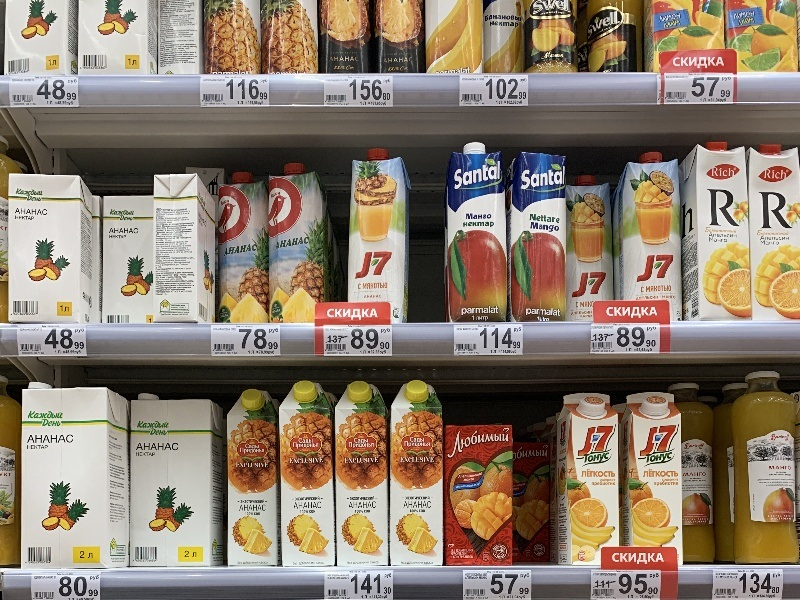juice: (681, 135, 759, 327), (343, 142, 424, 322), (444, 140, 518, 329), (273, 380, 344, 574), (327, 376, 397, 570), (501, 137, 571, 327), (384, 379, 451, 577), (439, 410, 517, 574), (618, 149, 693, 317), (618, 388, 693, 555), (221, 385, 288, 571), (258, 164, 332, 327), (556, 390, 622, 565), (745, 132, 800, 334), (216, 166, 276, 330)
